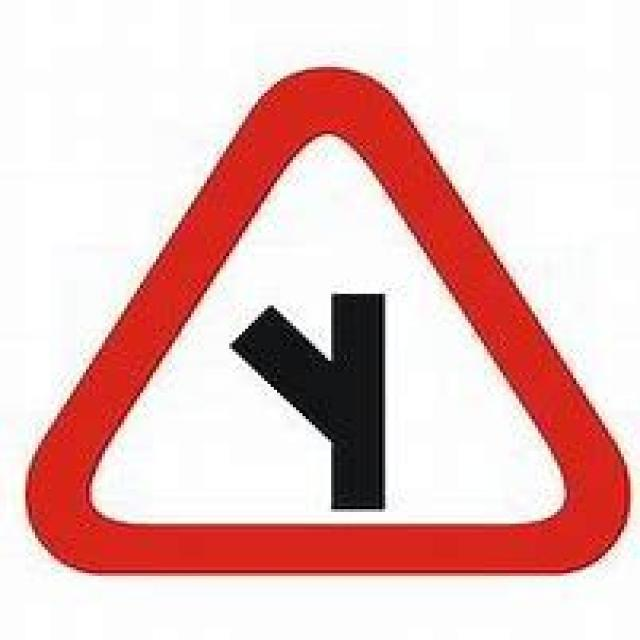y intersection: (26, 72, 629, 575)
